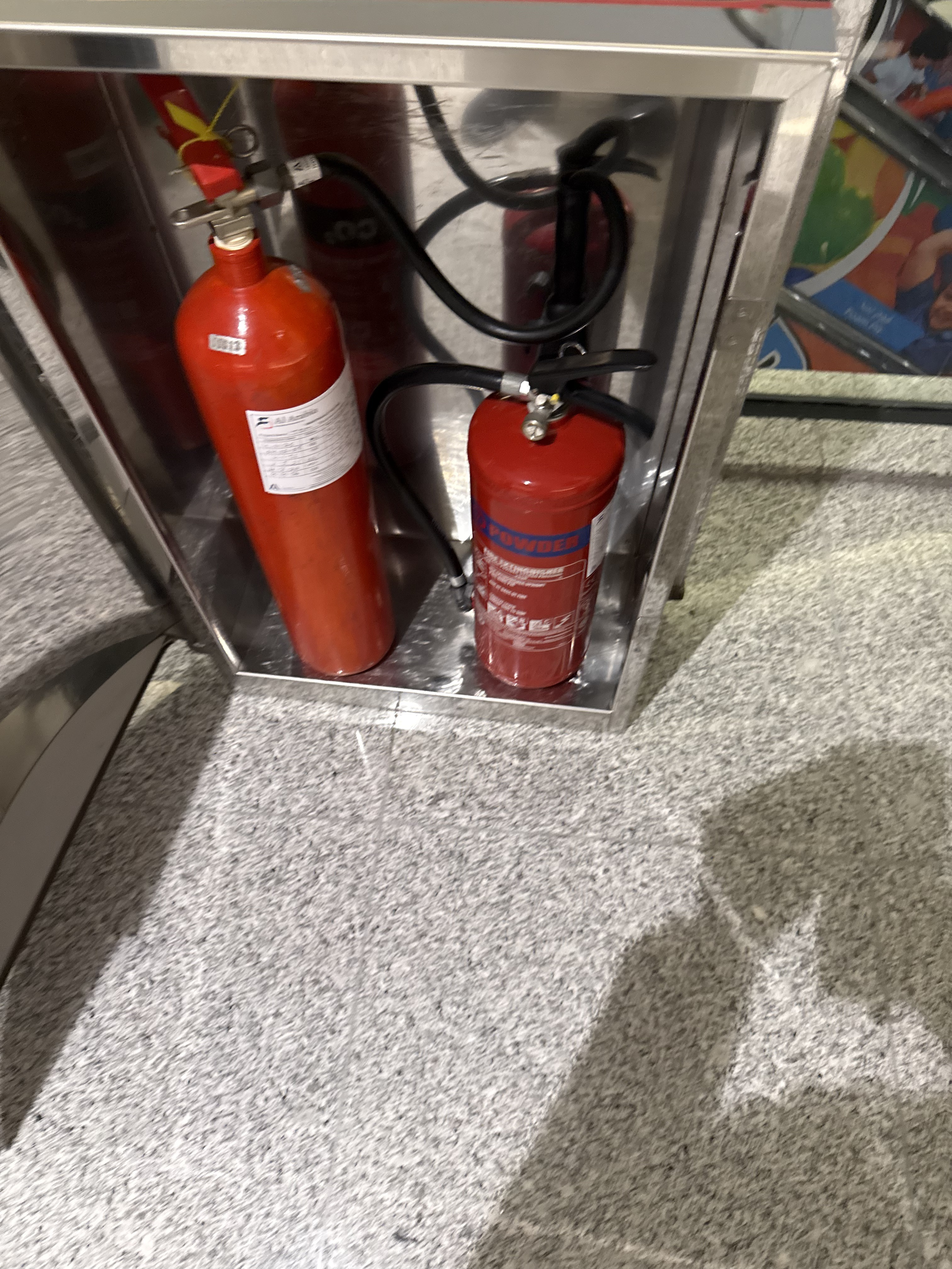fire_extinguisher: (366, 115, 661, 691), (135, 74, 398, 679), (366, 340, 657, 691)
